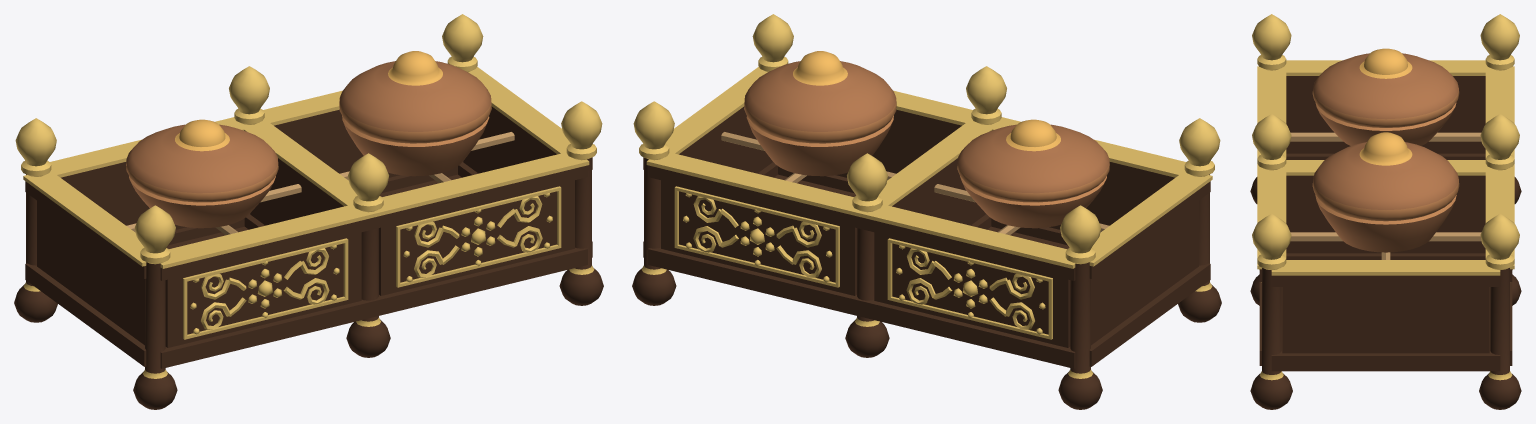
File: gamelar_kethuk_set.fbx
3 renders of one model, left to right at view 1: azimuth 30°, elevation 25°; view 2: azimuth 150°, elevation 25°; view 3: azimuth 270°, elevation 25°, orthographic. The views are drawn at different scales.
Visible parts, largest first — view 1: KethukSet_Mesh; view 2: KethukSet_Mesh; view 3: KethukSet_Mesh.
Boxes of the visible parts, x1,y1,x2,y2 form: KethukSet_Mesh: [14, 14, 603, 409]; KethukSet_Mesh: [632, 14, 1221, 409]; KethukSet_Mesh: [1250, 14, 1521, 409].
Bounding box in the file's own units: 0.676 × 0.3231 × 0.356.
